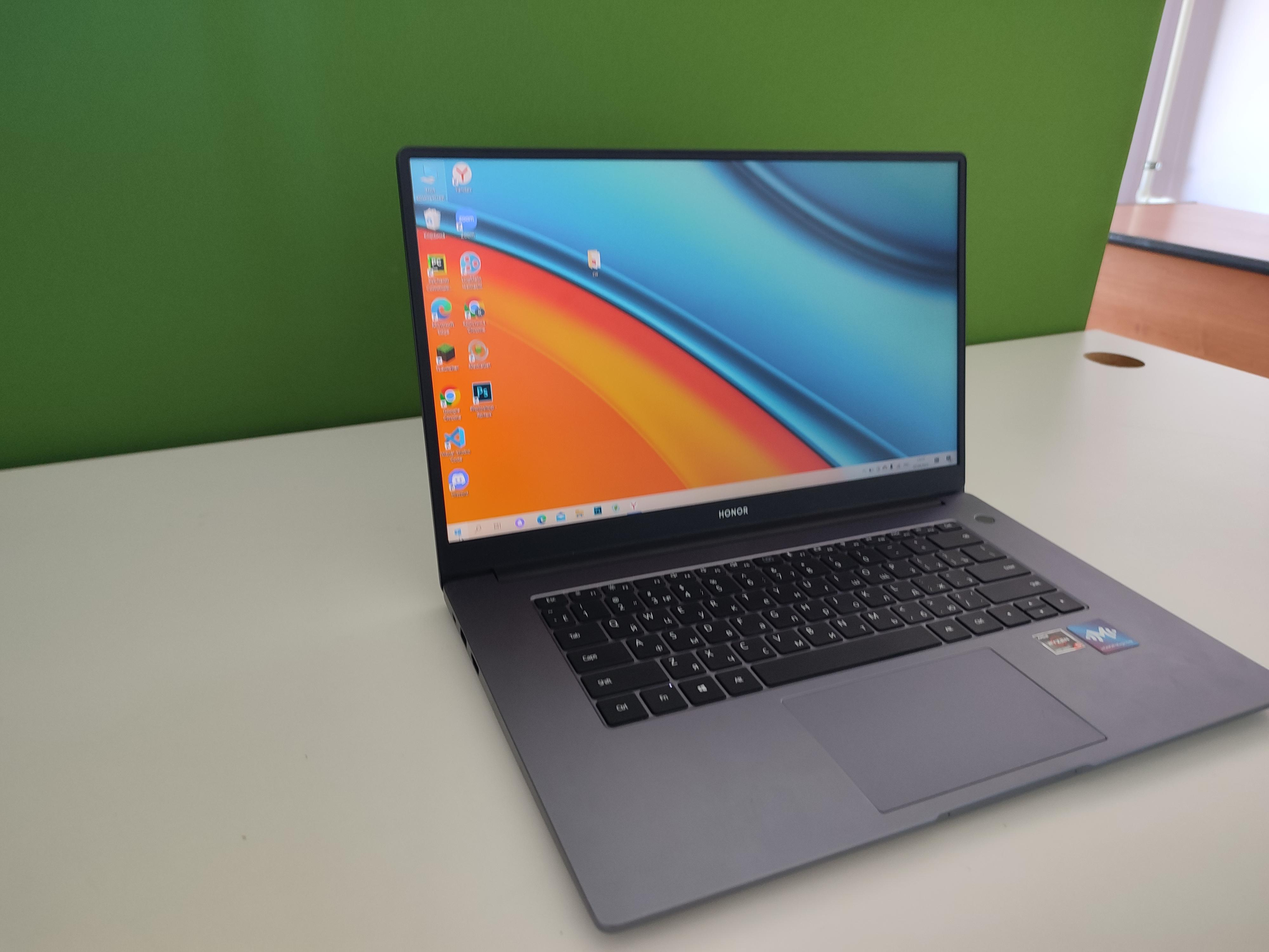monitor: (393, 143, 968, 583)
